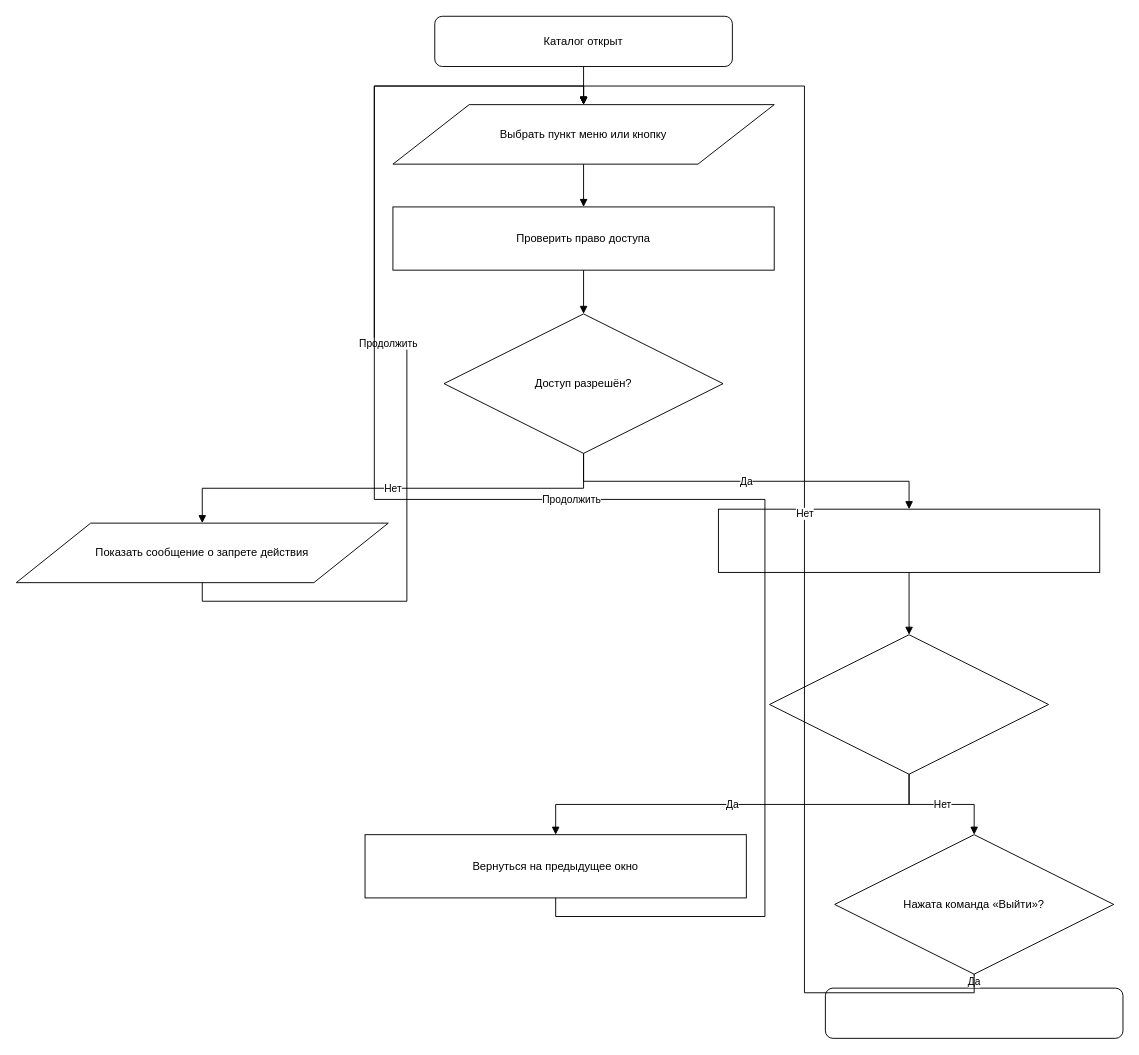
This 1139x1055 diagram has some shape labels left out. Each missing label, with the centre of its shape:
Нажата кнопка «Назад»?: the point at 909,704
Окно входа: the point at 973,1012
Открыть нужное окно с корректным заголовком: the point at 908,540
